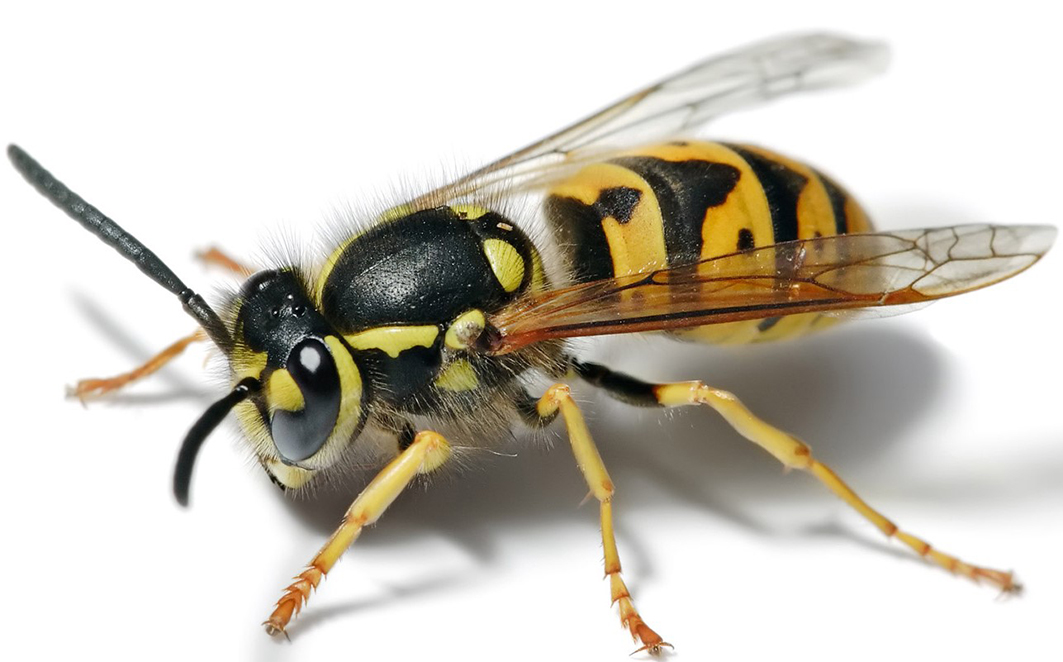chax: (3, 18, 1047, 653)
